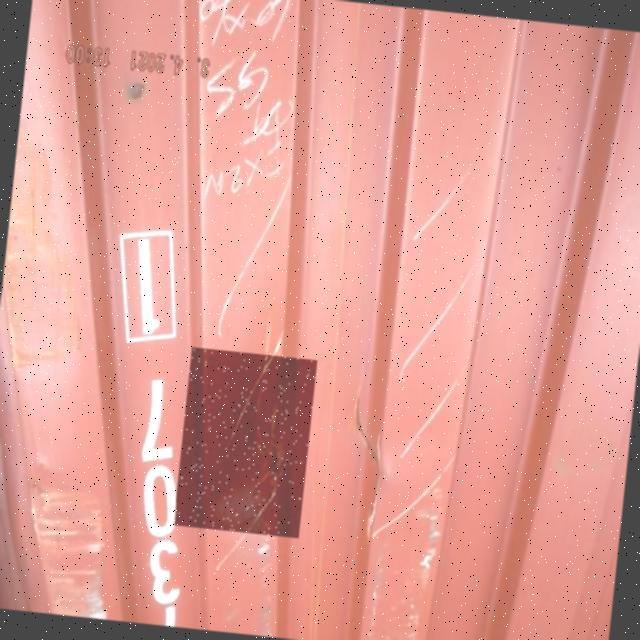Minor-Dent: (173, 347, 317, 538)
